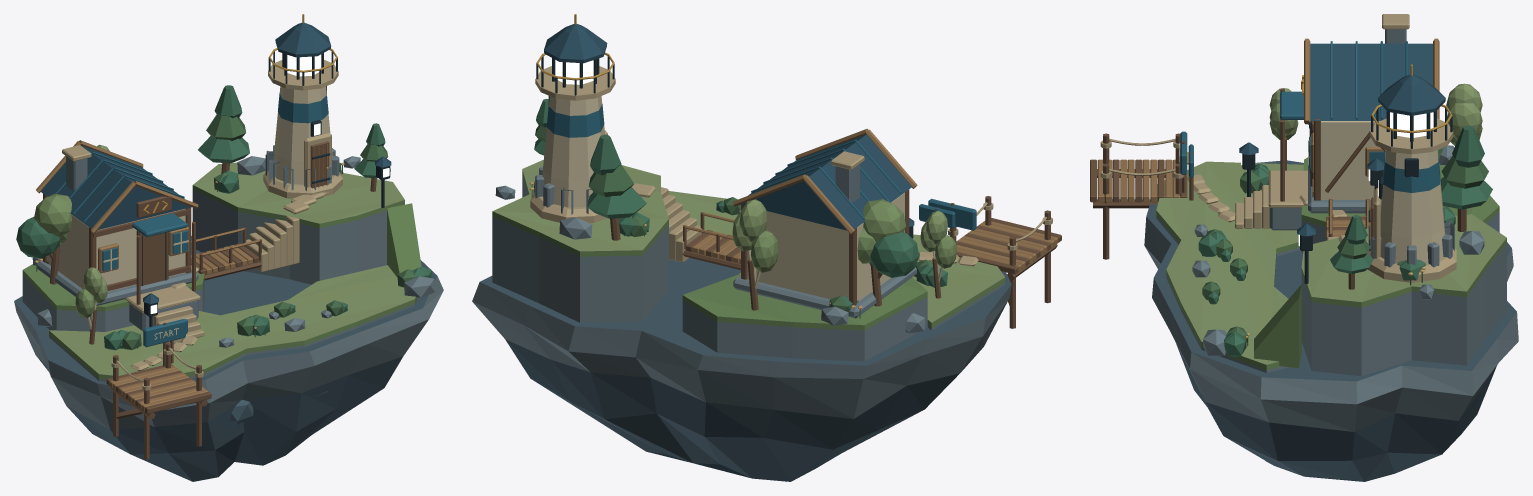
The model's file is basics-island.v2.1.glb.
The picture shows the model from 3 angles, left to right: view 1: azimuth 30°, elevation 25°; view 2: azimuth 150°, elevation 25°; view 3: azimuth 270°, elevation 25°; orthographic projection. The views are drawn at different scales.
Parts seen in each view (by area): view 1: CliffRock, GrassPlatforms, Workshop_Architecture, Lighthouse_Structure, Dock_Timber_and_Ropes, StonePath_and_EntryStairs, Tree_001_CanopyTrunk, Upper_Stairway, Tree_003_CanopyTrunk, Shrubs_and_Wildflowers, Bridge_Timber, Coastal_Ramp (+7 smaller); view 2: CliffRock, GrassPlatforms, Workshop_Architecture, Lighthouse_Structure, Dock_Timber_and_Ropes, Tree_001_CanopyTrunk, Tree_003_CanopyTrunk, Tree_002_CanopyTrunk, Bridge_Timber, Upper_Stairway, Tree_005_CanopyTrunk, Coast_Boulders (+3 smaller); view 3: GrassPlatforms, CliffRock, Workshop_Architecture, Lighthouse_Structure, Dock_Timber_and_Ropes, StonePath_and_EntryStairs, Tree_003_CanopyTrunk, Coastal_Ramp, Shrubs_and_Wildflowers, Coast_Boulders, Signs_and_LampFrames, Tree_004_CanopyTrunk (+5 smaller).
Boxes of the visible parts, <box> form: CliffRock: <box>14,236,443,481</box>; GrassPlatforms: <box>22,162,417,381</box>; Workshop_Architecture: <box>36,140,198,305</box>; Lighthouse_Structure: <box>263,14,342,198</box>; Dock_Timber_and_Ropes: <box>106,342,211,459</box>; StonePath_and_EntryStairs: <box>125,265,204,370</box>; Tree_001_CanopyTrunk: <box>16,194,71,284</box>; Upper_Stairway: <box>245,192,328,271</box>; Tree_003_CanopyTrunk: <box>198,85,249,173</box>; Shrubs_and_Wildflowers: <box>34,162,432,350</box>; Bridge_Timber: <box>191,227,261,280</box>; Coastal_Ramp: <box>387,203,421,277</box>; CliffRock: <box>472,257,1011,481</box>; GrassPlatforms: <box>492,160,1005,361</box>; Workshop_Architecture: <box>733,128,917,318</box>; Lighthouse_Structure: <box>530,14,615,223</box>; Dock_Timber_and_Ropes: <box>948,196,1061,328</box>; Tree_001_CanopyTrunk: <box>857,199,919,306</box>; Tree_003_CanopyTrunk: <box>587,134,646,240</box>; Tree_002_CanopyTrunk: <box>732,199,778,310</box>; Bridge_Timber: <box>682,212,740,269</box>; Upper_Stairway: <box>631,183,701,262</box>; Tree_005_CanopyTrunk: <box>920,211,956,298</box>; Coast_Boulders: <box>495,185,924,333</box>; GrassPlatforms: <box>1156,157,1506,376</box>; CliffRock: <box>1144,160,1518,481</box>; Workshop_Architecture: <box>1280,14,1439,213</box>; Lighthouse_Structure: <box>1367,64,1456,282</box>; Dock_Timber_and_Ropes: <box>1090,133,1187,259</box>; StonePath_and_EntryStairs: <box>1186,170,1347,230</box>; Tree_003_CanopyTrunk: <box>1440,125,1492,231</box>; Coastal_Ramp: <box>1254,284,1301,368</box>; Shrubs_and_Wildflowers: <box>1198,148,1455,357</box>; Coast_Boulders: <box>1192,145,1484,355</box>; Signs_and_LampFrames: <box>1187,142,1384,283</box>; Tree_004_CanopyTrunk: <box>1330,215,1373,289</box>.
Size of the model in its own units: 10.62 by 9.77 by 8.56.
